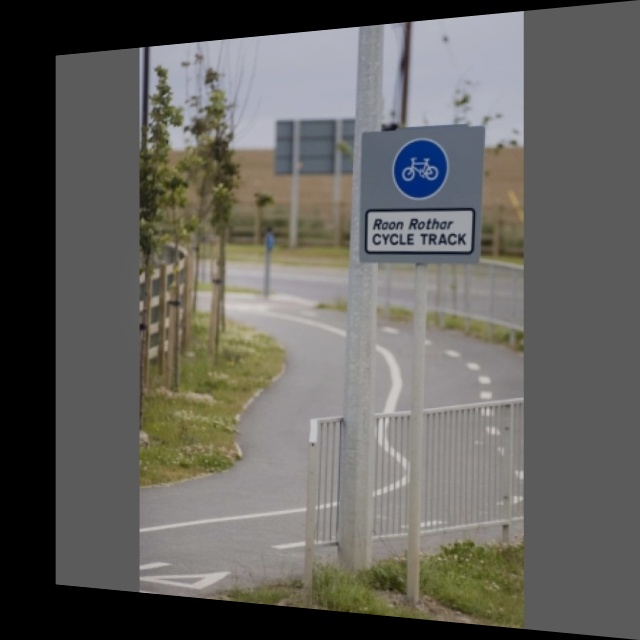Compulsory_Cycle_Track: (386, 132, 454, 207)
